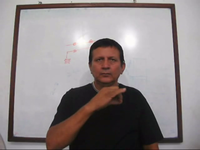oi: (97, 85, 126, 110)
